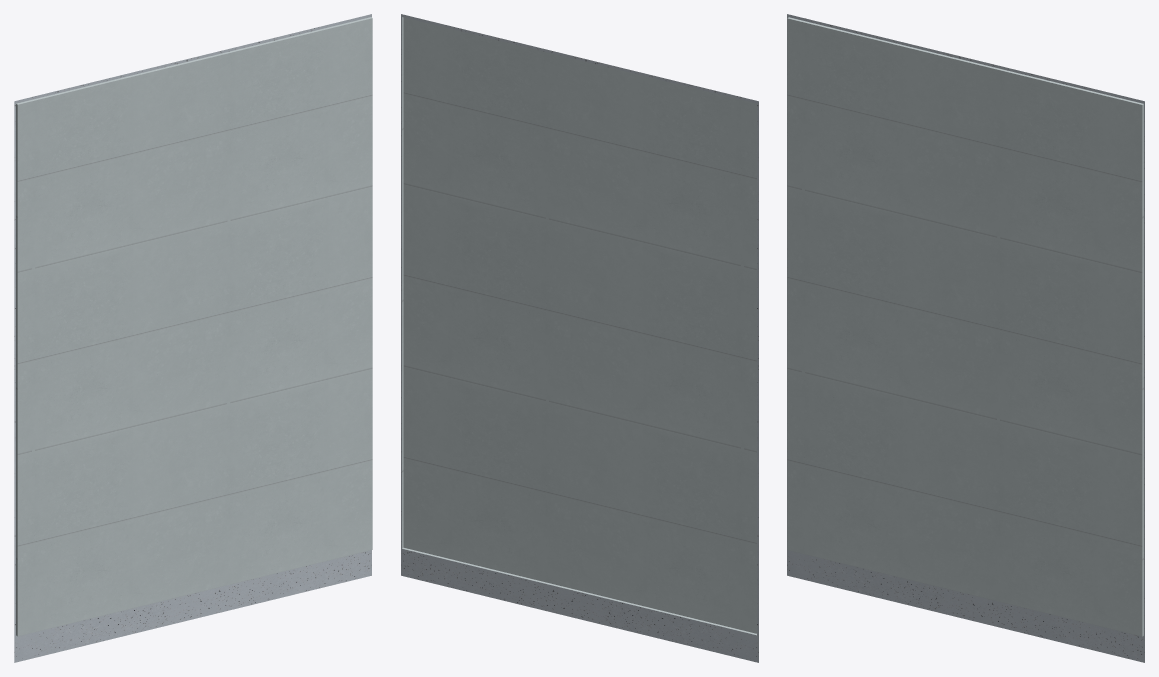
3 views of the same model, side by side, from view 1: azimuth 30°, elevation 25°; view 2: azimuth 150°, elevation 25°; view 3: azimuth 330°, elevation 25° (orthographic).
Parts seen in each view (by area): view 1: M_W_005_f_8x12; view 2: M_W_005_f_8x12; view 3: M_W_005_f_8x12.
Boxes of the visible parts, x1,y1,x2,y2 form: M_W_005_f_8x12: (14,14,372,662); M_W_005_f_8x12: (401,14,758,662); M_W_005_f_8x12: (787,14,1144,662).
Size of the model in its own units: 8 by 12 by 0.06.
